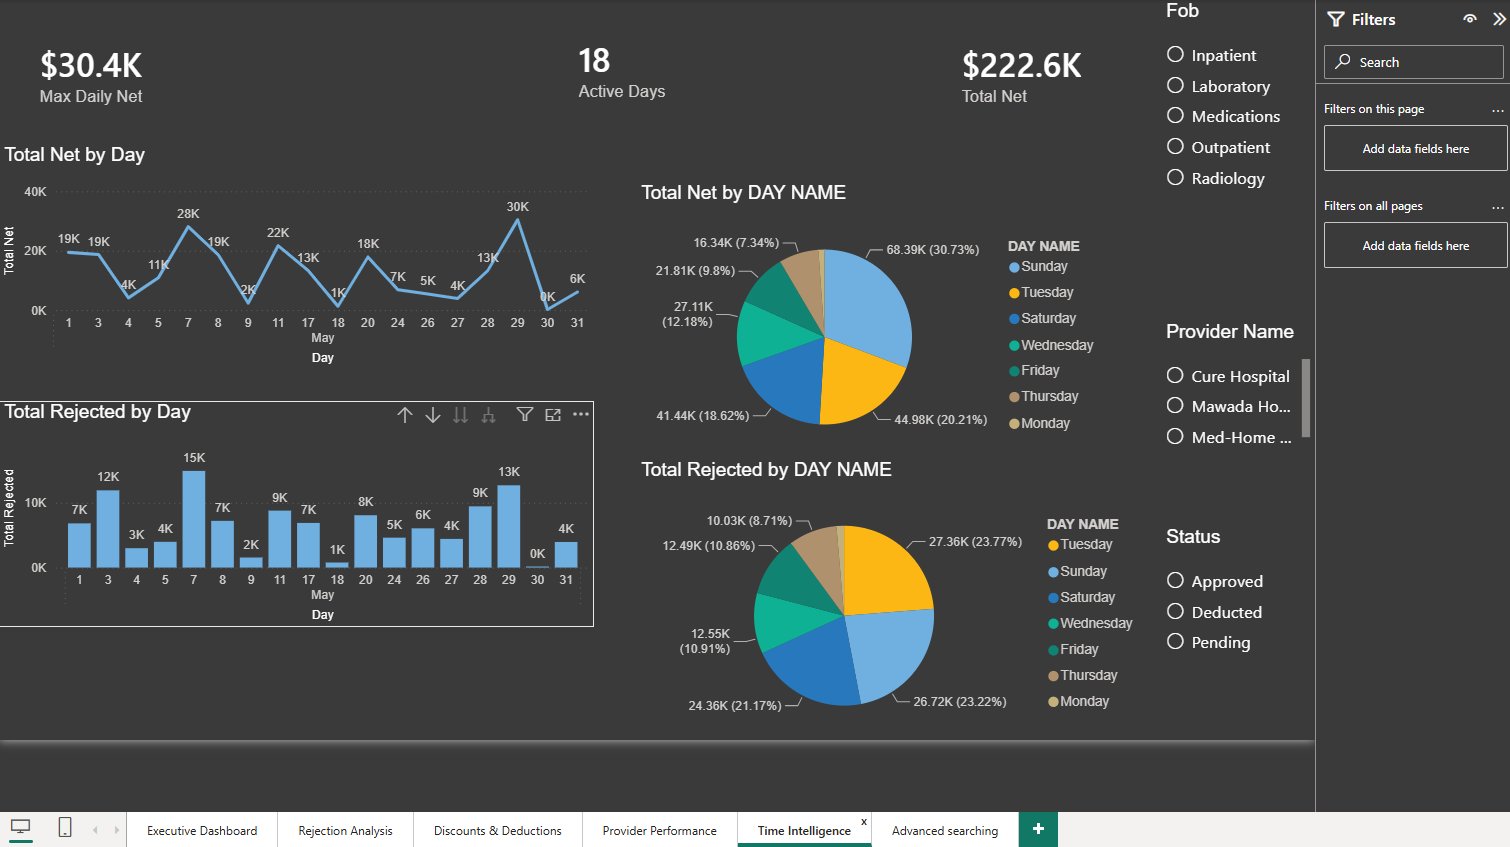

Layout of this report page (visuals, bound fields, positions):
{"tool":"powerbi","page":{"name":"Time Intelligence","canvas":[1280,720],"ordinal":4},"visuals":[{"type":"cardVisual","fields":{"Data":["claims.Max Daily Net"]},"box":[9.8,0,280.4,140.2],"z":0},{"type":"cardVisual","fields":{"Data":["claims.Active Days"]},"box":[533.7,0,280.4,131.5],"z":1000},{"type":"cardVisual","fields":{"Data":["claims.Total Net"]},"box":[906.5,0,280.4,140.2],"z":2000},{"type":"lineChart","title":"Total Net by  Day","fields":{"Category":["claims.Service Date.Variation.Date Hierarchy.Month","claims.Service Date.Variation.Date Hierarchy.Day"],"Y":["claims.Total Net"]},"box":[0,140.2,579.3,219.6],"z":3000},{"type":"clusteredColumnChart","title":"Total Rejected by Day","fields":{"Category":["claims.Service Date.Variation.Date Hierarchy.Month","claims.Service Date.Variation.Date Hierarchy.Day"],"Y":["claims.Total Rejected"]},"box":[0,390,579,220],"z":4000},{"type":"pieChart","fields":{"Category":["claims.DAY NAME"],"Y":["claims.Total Net"]},"box":[619.6,177.2,459.8,269.6],"z":5000},{"type":"pieChart","fields":{"Category":["claims.DAY NAME"],"Y":["claims.Total Rejected"]},"box":[619.6,446.7,497.8,272.8],"z":6000},{"type":"listSlicer","fields":{"Values":["claims.Fob"]},"box":[1130.4,0,150,194.6],"z":7000},{"type":"listSlicer","fields":{"Values":["claims.Provider Name"]},"box":[1130.4,312,150,130.4],"z":8000},{"type":"listSlicer","fields":{"Values":["claims.Status"]},"box":[1130.4,512,150,190.2],"z":9000}]}

Visuals, with their boxes on the page's 1280x720 design canvas (x1, y1, x2, y2). These are canvas units, not pixel positions in the 1510x847 screenshot, which may show the page scaled, cropped or inside an application window:
cardVisual - claims.Max Daily Net: l=10, t=0, r=290, b=140
cardVisual - claims.Active Days: l=534, t=0, r=814, b=132
cardVisual - claims.Total Net: l=906, t=0, r=1187, b=140
"Total Net by  Day" lineChart: l=0, t=140, r=579, b=360
"Total Rejected by Day" clusteredColumnChart: l=0, t=390, r=579, b=610
pieChart - claims.DAY NAME x claims.Total Net: l=620, t=177, r=1079, b=447
pieChart - claims.DAY NAME x claims.Total Rejected: l=620, t=447, r=1117, b=720
listSlicer - claims.Fob: l=1130, t=0, r=1280, b=195
listSlicer - claims.Provider Name: l=1130, t=312, r=1280, b=442
listSlicer - claims.Status: l=1130, t=512, r=1280, b=702
